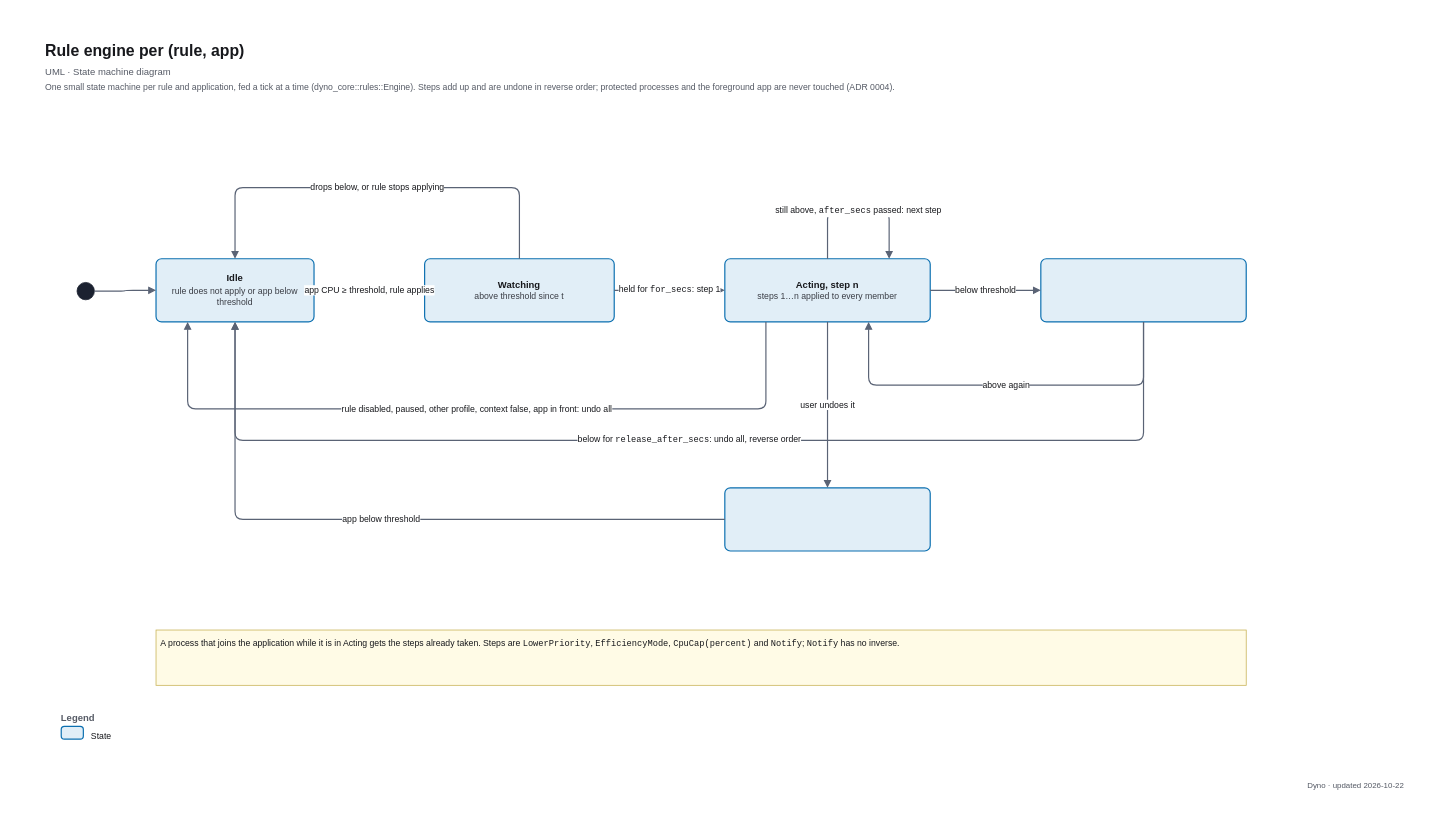
The diagram is 1449 pixels wide and 817 high, and some of its shapes have lost their labels. Each missing label, with the centre of its shape:
Releasing below threshold since t: point 1143,290
Snoozed after a manual undo: point 827,519
